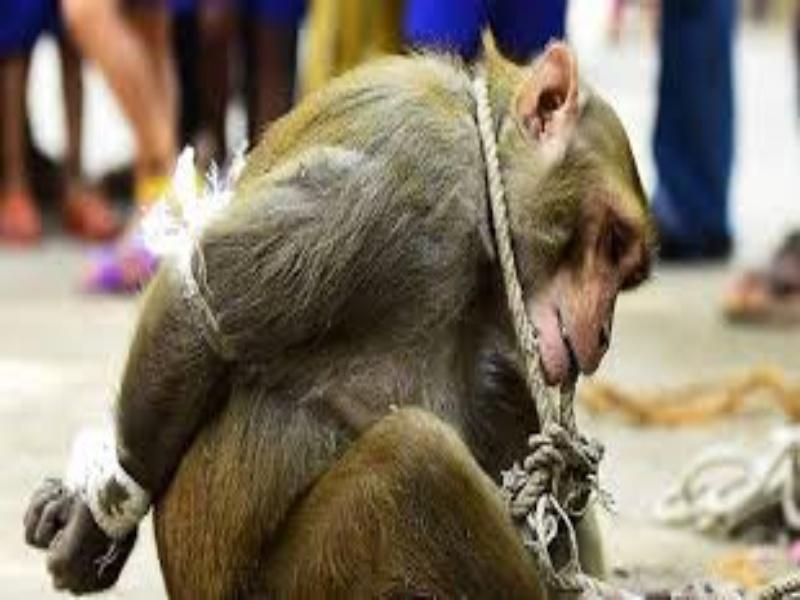monkey: (33, 53, 688, 587)
